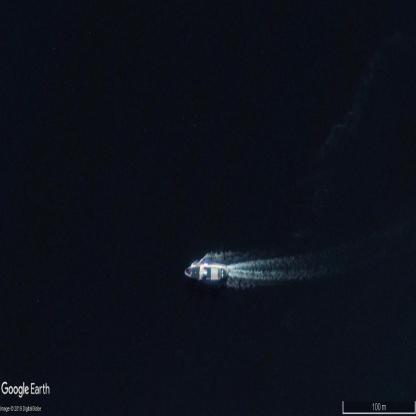ship: (184, 264, 228, 281)
